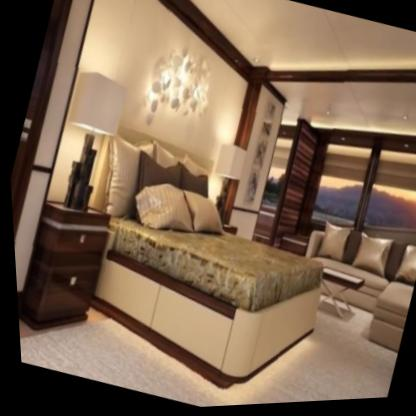Bed: (65, 124, 357, 414)
Lamp: (35, 59, 141, 218), (193, 134, 256, 228)
Nightstand: (9, 187, 120, 347)
Sofa: (295, 219, 416, 355)
